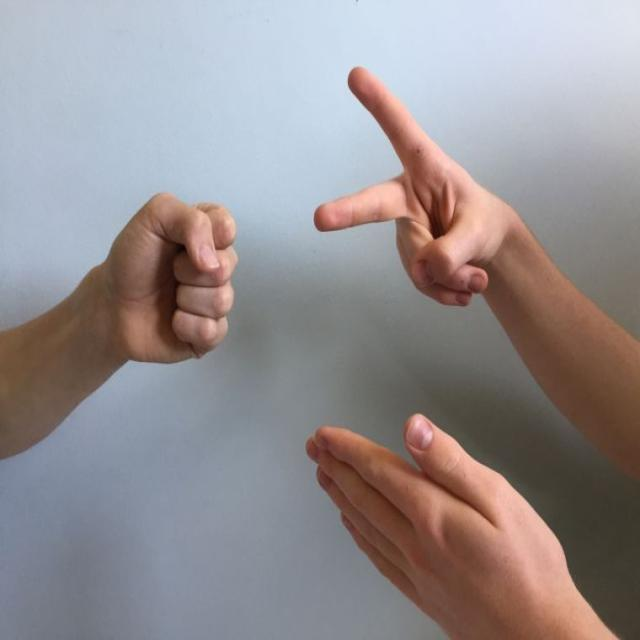paper: (288, 386, 618, 640)
rock: (73, 162, 259, 402)
scirssors: (296, 30, 560, 333)
